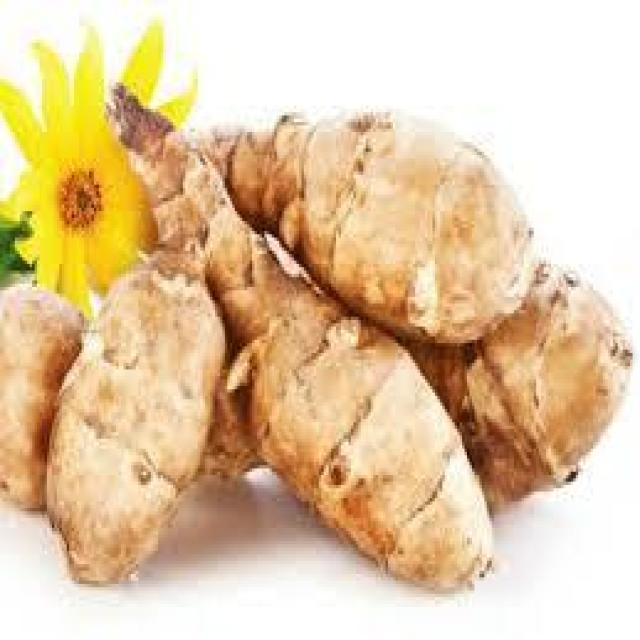organic: (0, 13, 633, 594)
